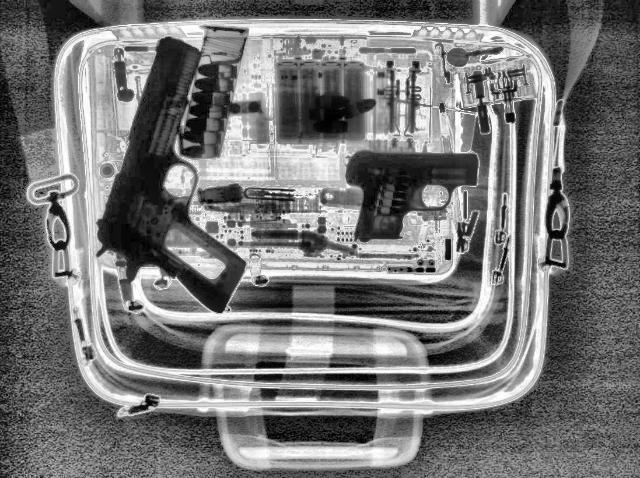Gun: (88, 34, 250, 332), (342, 150, 481, 243)
